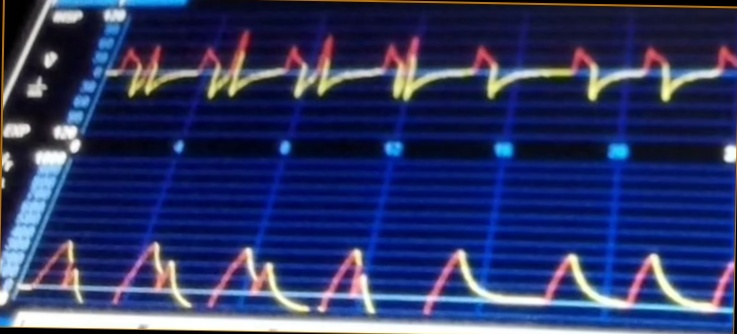Double_Triggering Flow: (114, 22, 735, 130)
Double_Triggering Volume: (33, 217, 733, 315)
